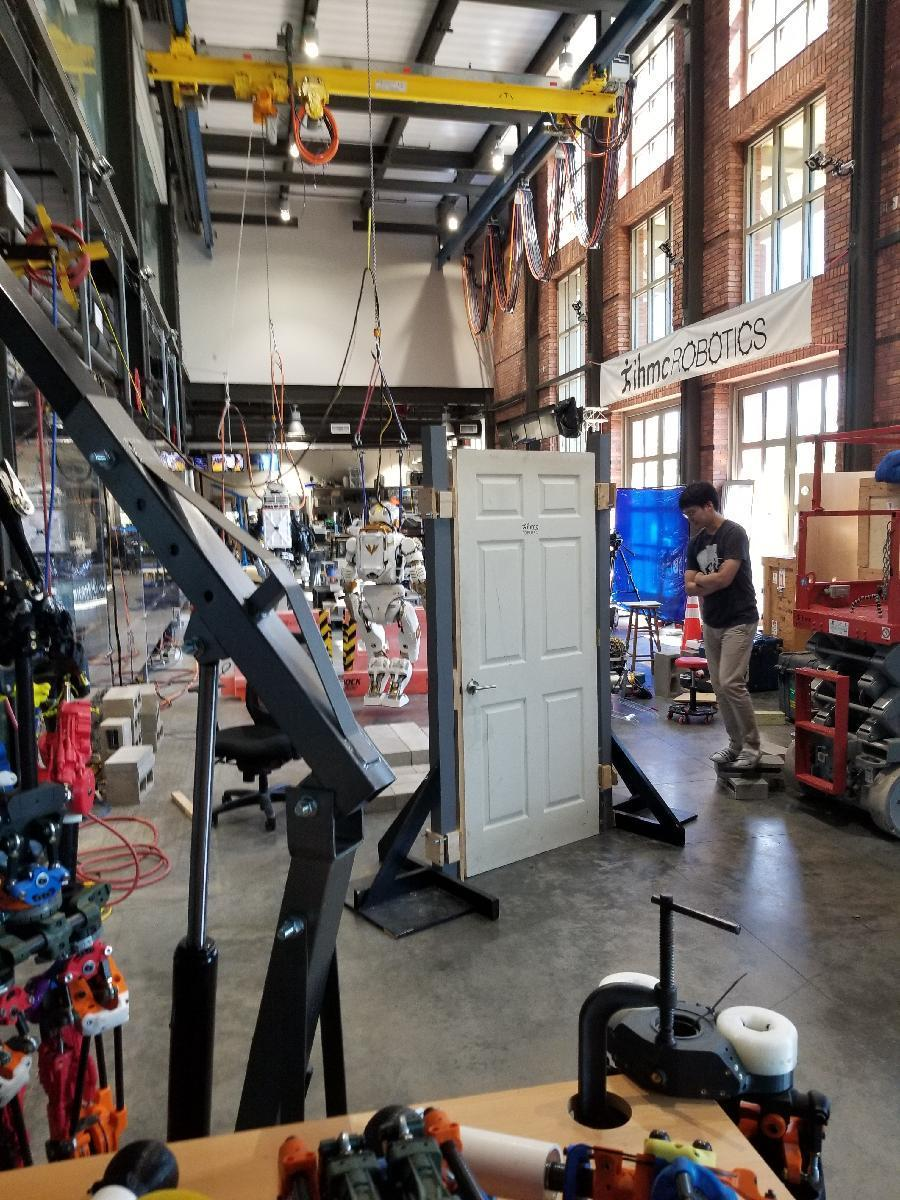door: (451, 448, 613, 881)
handle: (466, 678, 498, 698)
